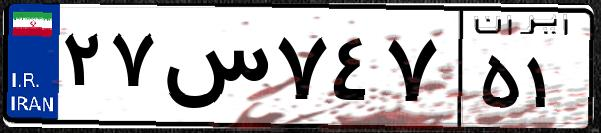1: (525, 38, 570, 115)
2: (57, 26, 110, 100)
4: (330, 28, 385, 110)
5: (475, 38, 525, 113)
7: (270, 28, 330, 110), (385, 28, 445, 110), (110, 28, 158, 98)
س: (158, 20, 270, 120)
